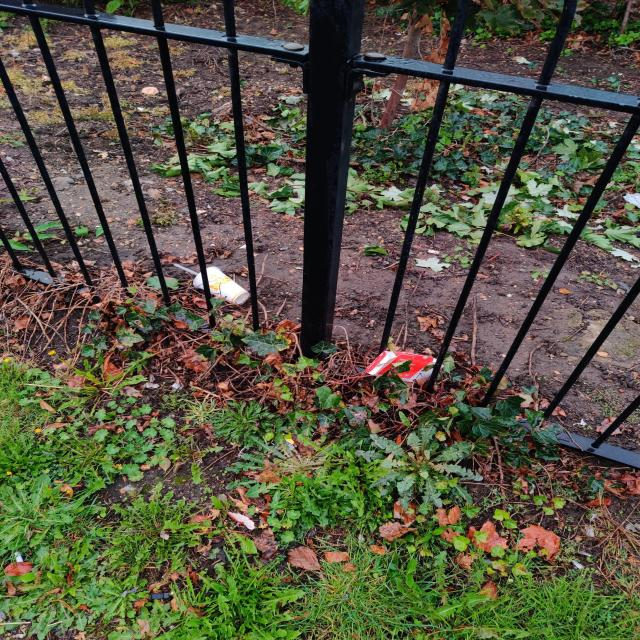litter: (351, 338, 453, 402), (190, 264, 250, 304), (171, 262, 199, 276)
